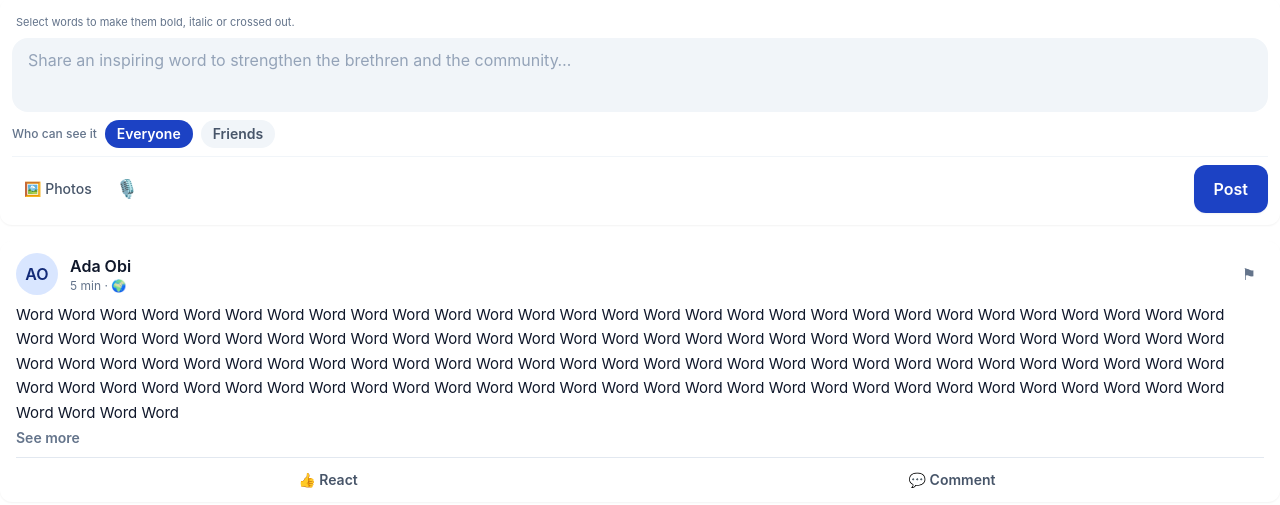
Test: Updates wall › long posts are shortened with "See more"
Click the button "See more".
click(48, 438)  # box [16,428,80,448]
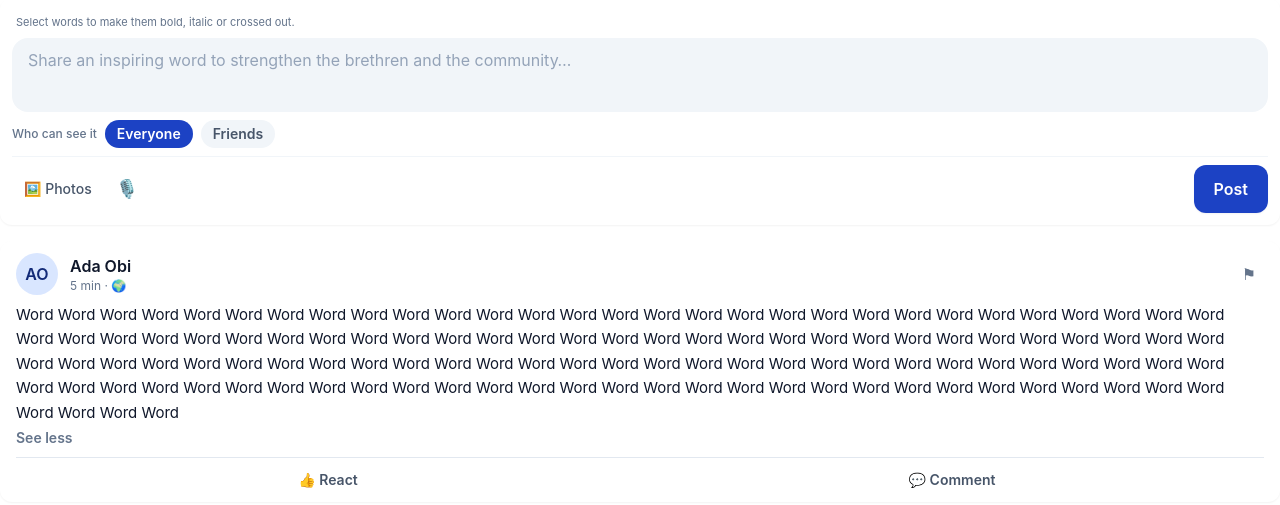
expect the button "See less" is shown: met, box [16,428,72,448]
